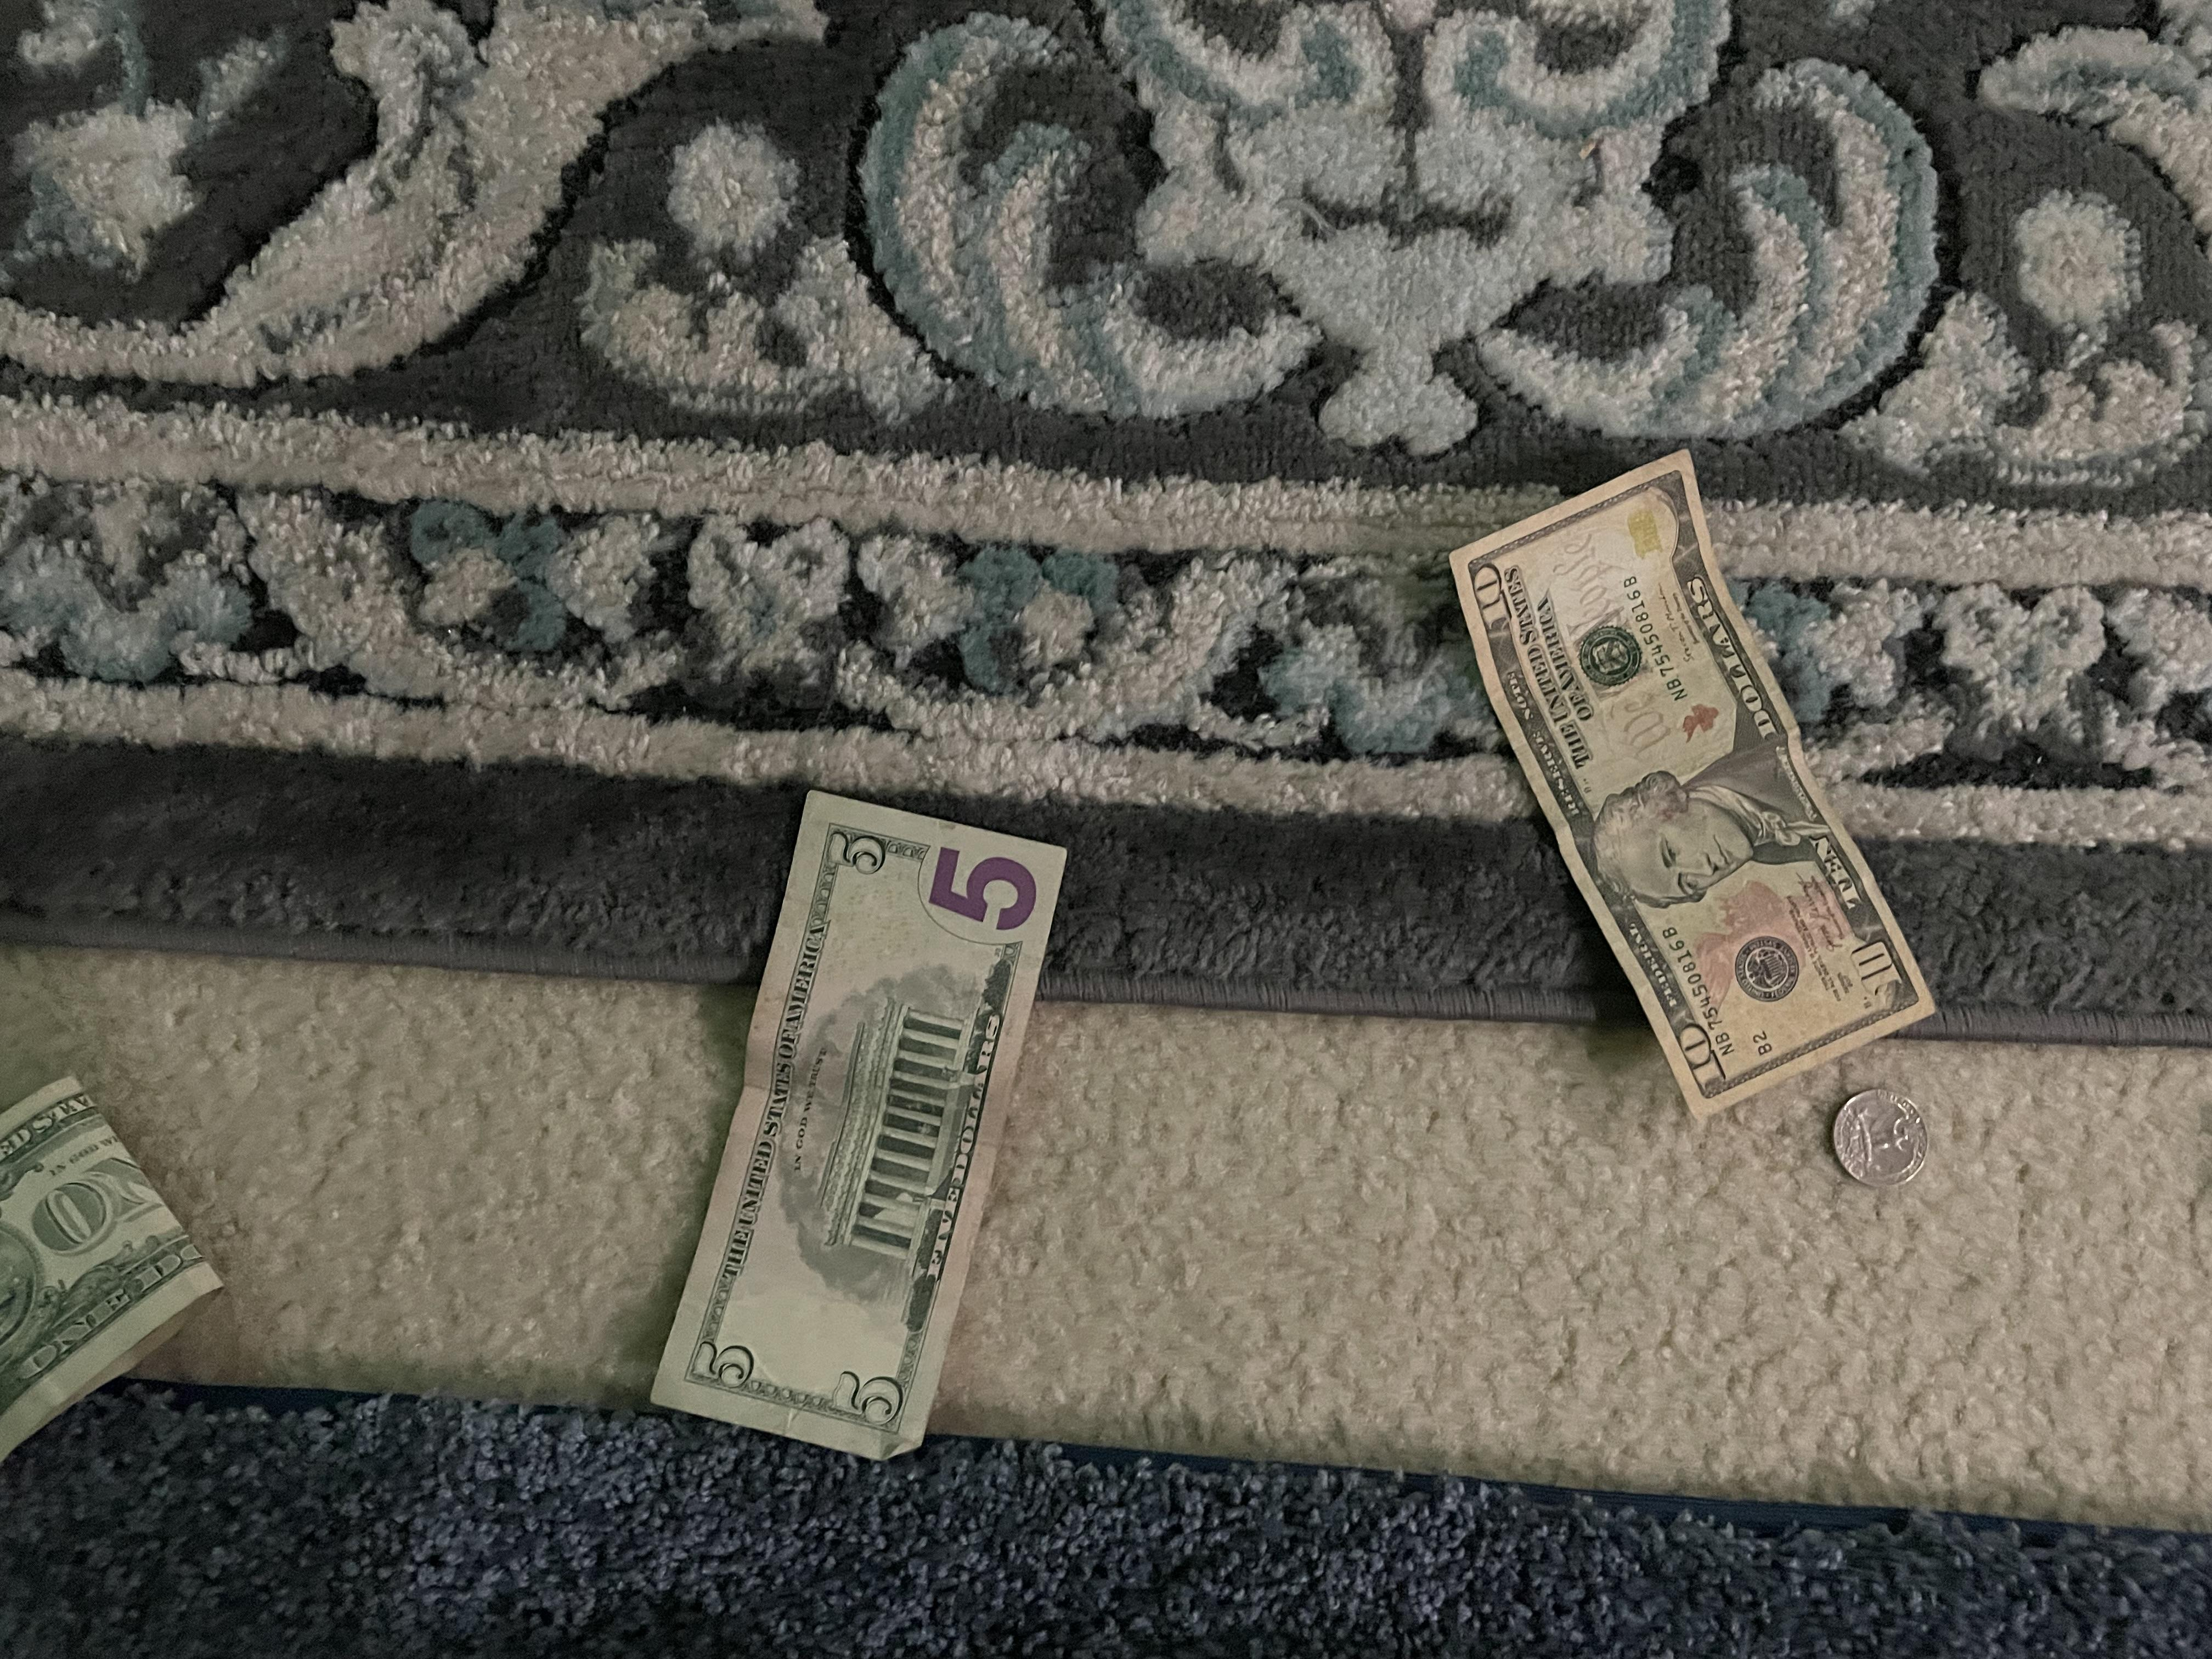FiveBill: (648, 781, 1078, 1483)
OneBill: (1446, 446, 1946, 1105), (2, 1039, 228, 1436)
Quarter: (1815, 1086, 1951, 1202)
